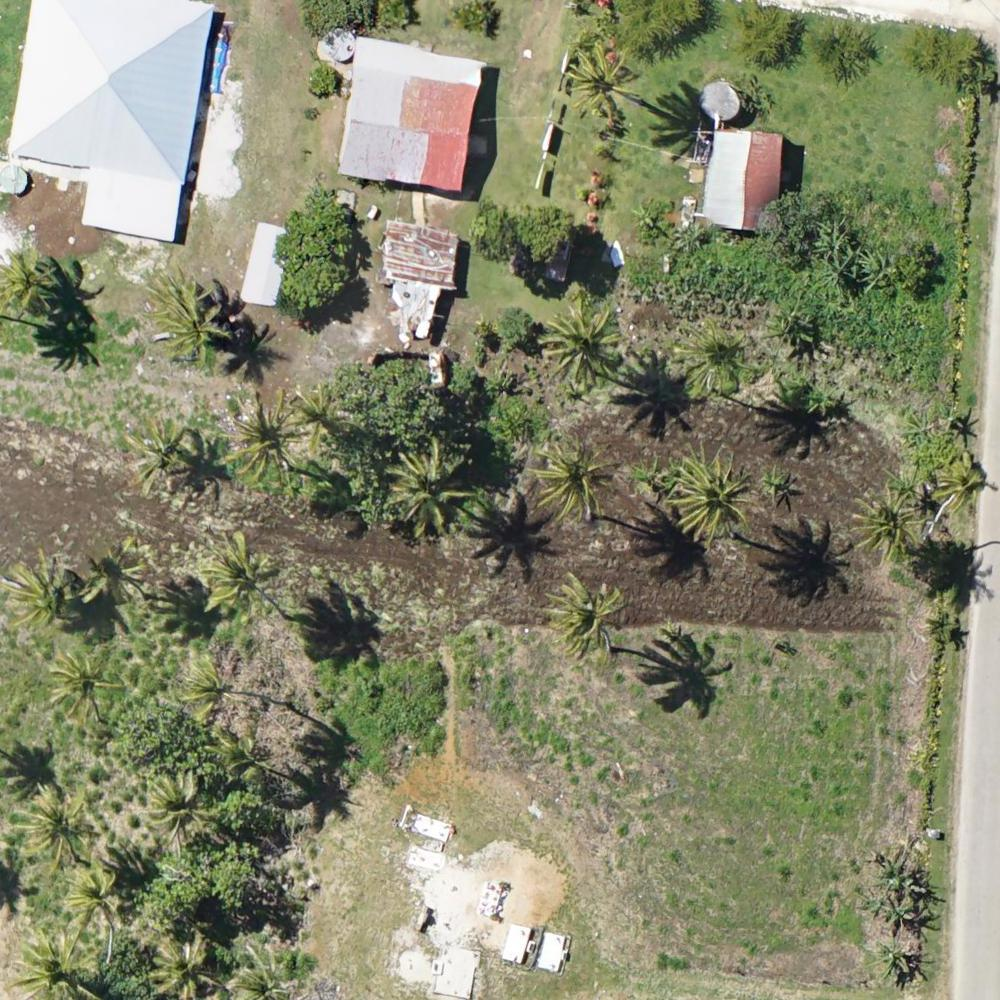Palm: (541, 301, 629, 391), (671, 451, 755, 540), (21, 784, 102, 873), (533, 435, 617, 518), (669, 315, 752, 397), (198, 534, 280, 614), (385, 445, 464, 528), (230, 395, 305, 482), (548, 575, 624, 655), (15, 931, 101, 1000), (852, 488, 931, 563), (7, 552, 80, 633), (158, 283, 232, 362), (45, 652, 120, 728), (121, 419, 189, 497), (141, 769, 212, 843), (572, 44, 640, 117), (151, 931, 219, 995), (178, 655, 235, 723), (1, 246, 54, 318), (290, 388, 349, 448), (84, 543, 142, 604), (66, 869, 123, 930)
